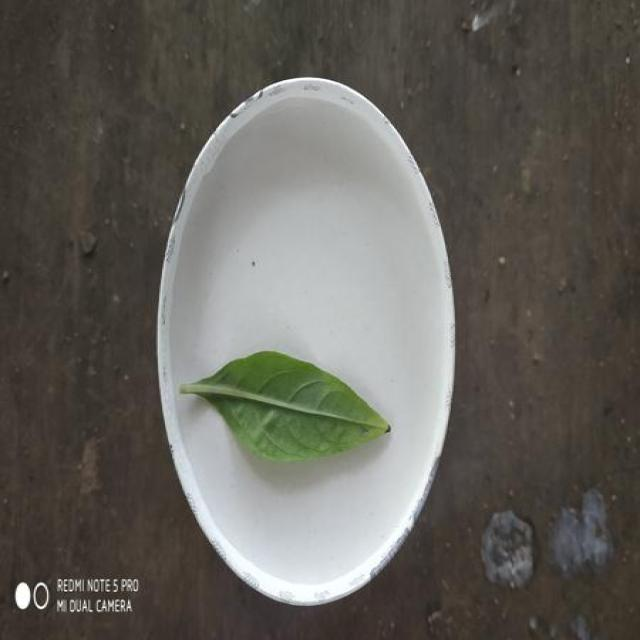Nelavembu: (180, 351, 390, 461)
